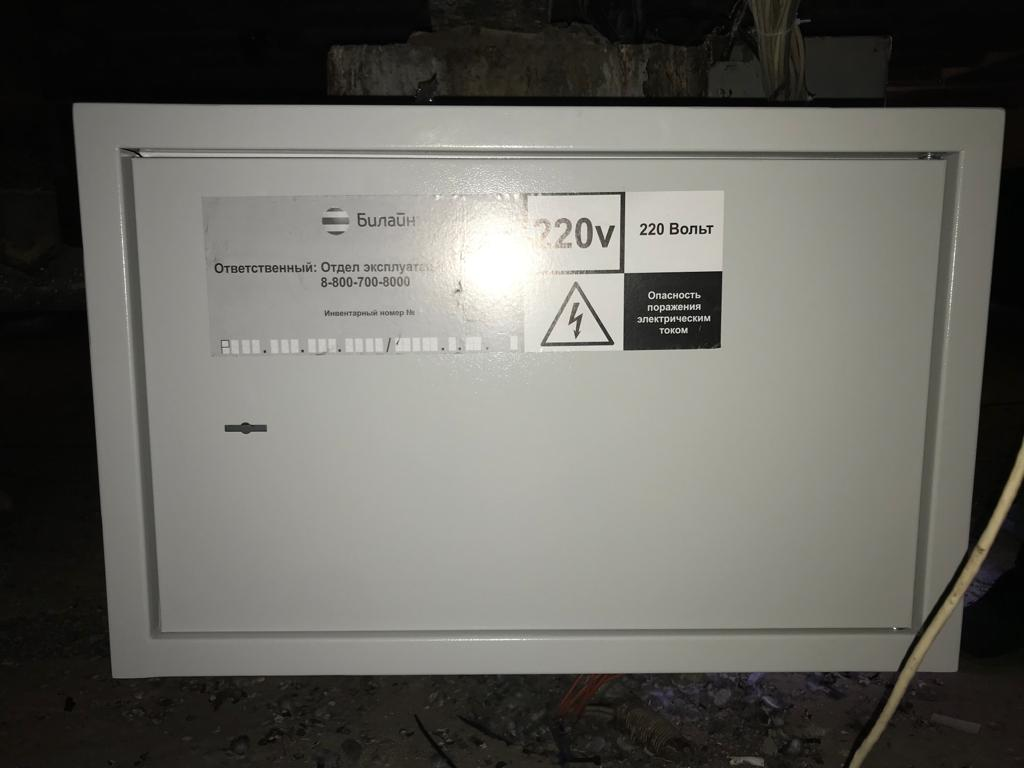shta-7m: (65, 95, 1013, 685)
